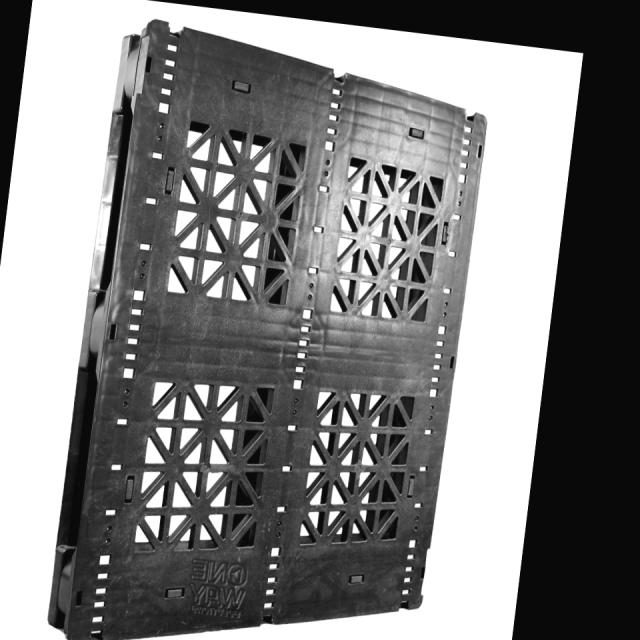non-igps: (44, 16, 490, 640)
